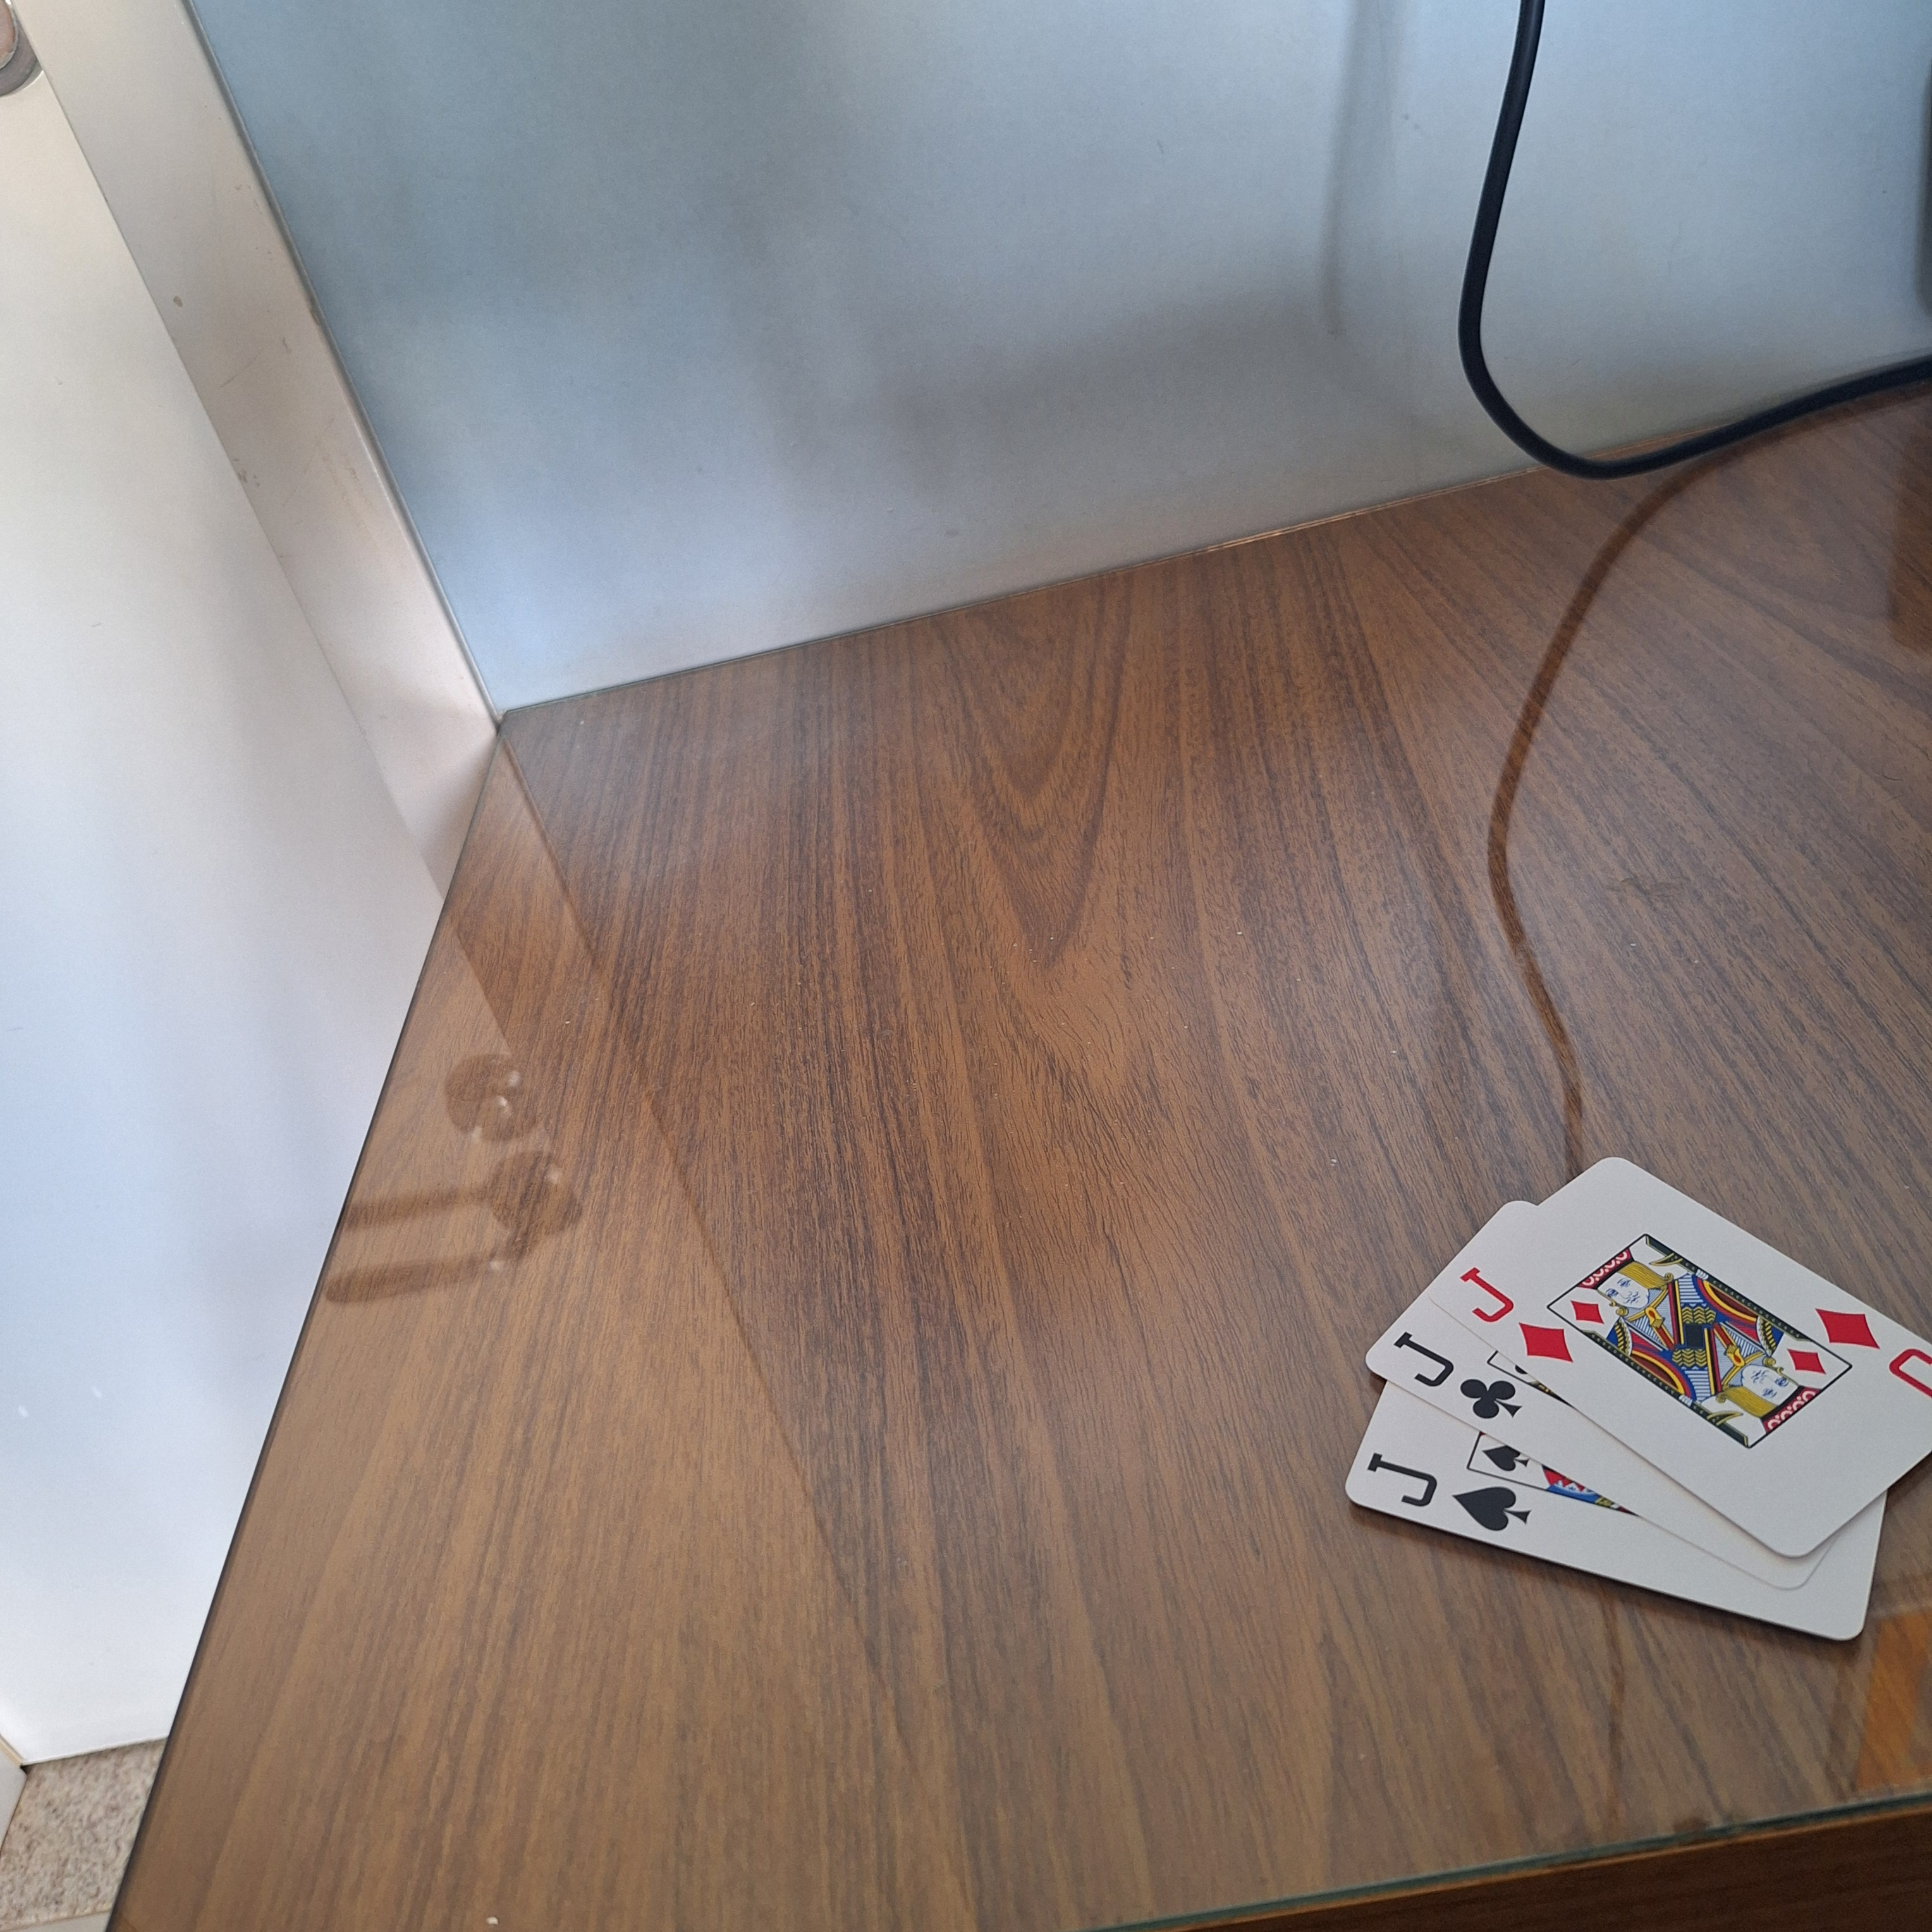JE: (1357, 1442, 1537, 1545)
JO: (1449, 1256, 1580, 1371)
JP: (1387, 1323, 1525, 1426)
